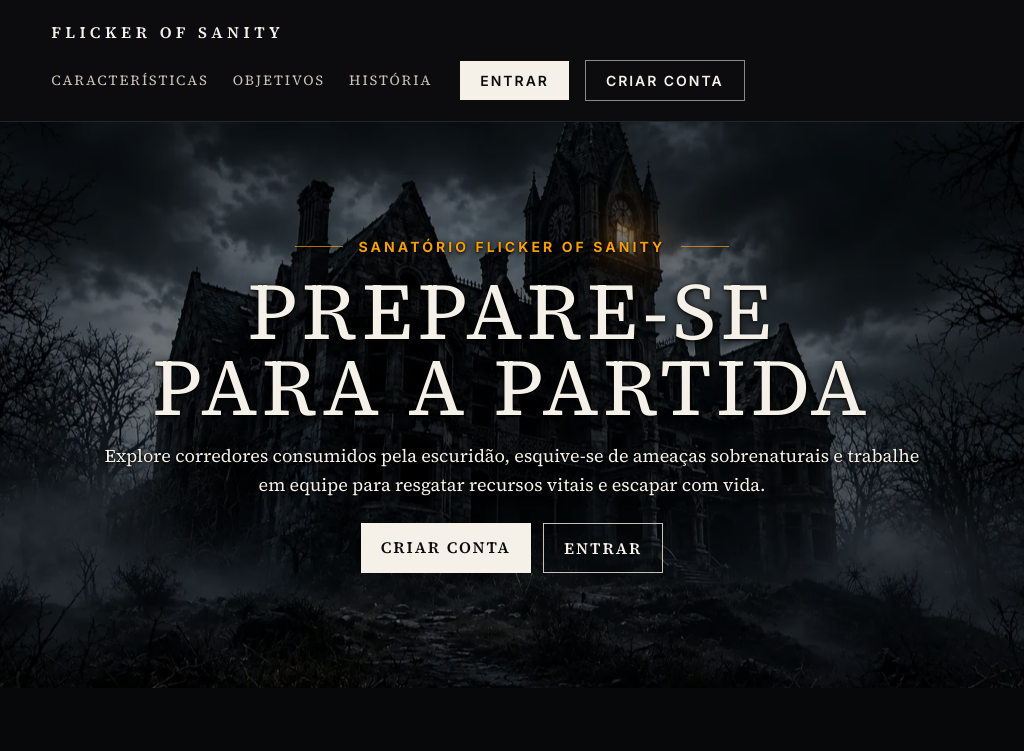
Scenario: hero CTAs › hero signup link navigates to cadastro
The image size is (1024, 751).
Click the link "Criar conta" below "Prepare-se para a partida" at (446, 548), box top-left (361, 523), bottom-right (531, 573)
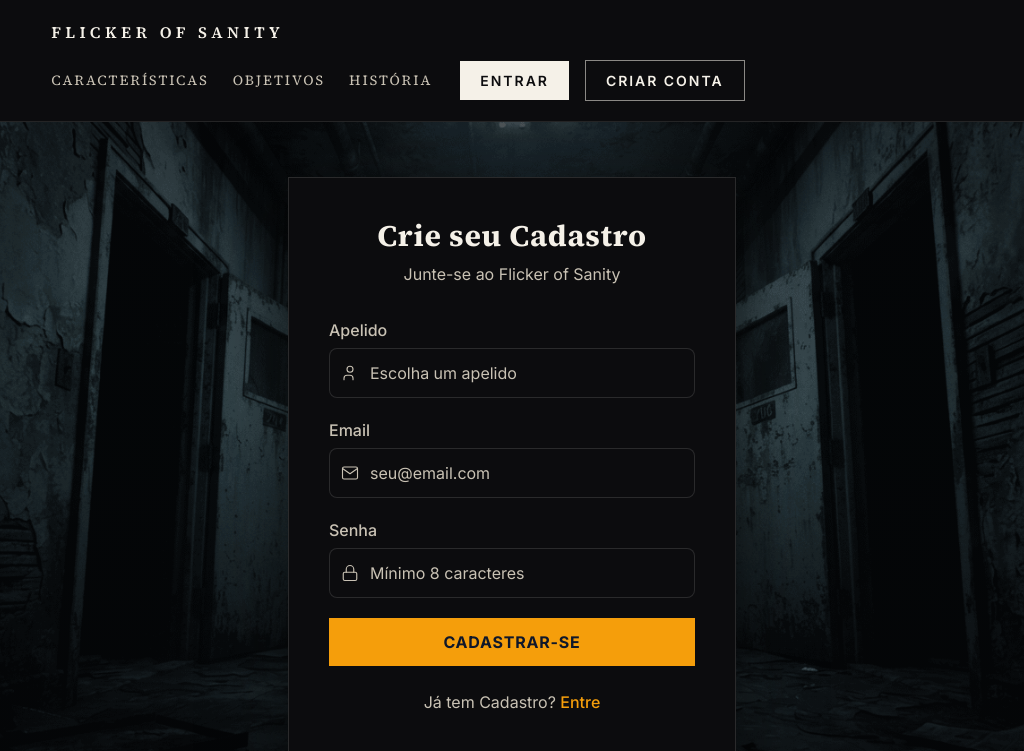
Expected: the heading "Crie seu Cadastro" is shown, top-left (377, 215), bottom-right (647, 256)
